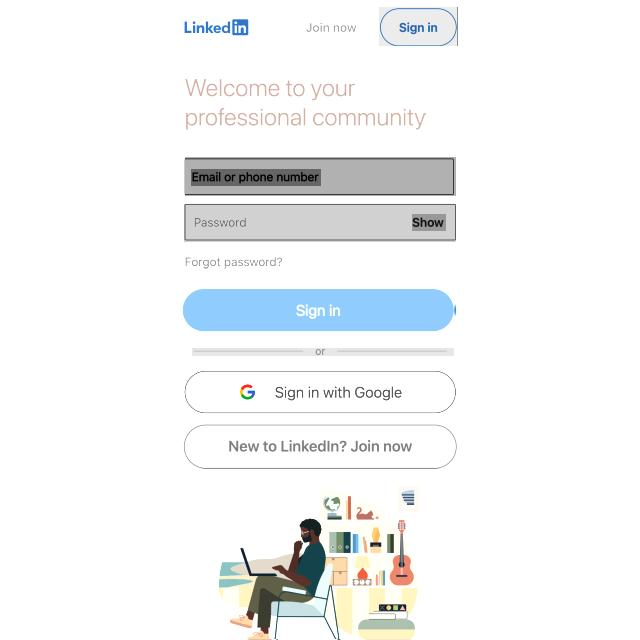CheckBox: (184, 369, 457, 415), (184, 288, 456, 333), (182, 424, 457, 468), (379, 7, 458, 46), (184, 254, 284, 268), (304, 20, 360, 34), (412, 214, 446, 231)
CheckedTextView: (185, 157, 458, 196), (184, 205, 456, 242)
accordion: (192, 348, 454, 356)
bag: (178, 0, 457, 55)
content: (220, 481, 423, 639)
date picker: (182, 17, 251, 38)
footer: (193, 169, 323, 186), (193, 216, 251, 230)
image: (182, 76, 425, 131)
